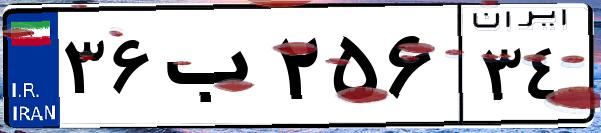2: (270, 28, 330, 110)
3: (57, 26, 110, 100), (475, 38, 525, 113)
4: (525, 38, 570, 115)
5: (330, 28, 385, 110)
6: (385, 28, 445, 110), (110, 28, 158, 98)
ب: (158, 20, 270, 120)
